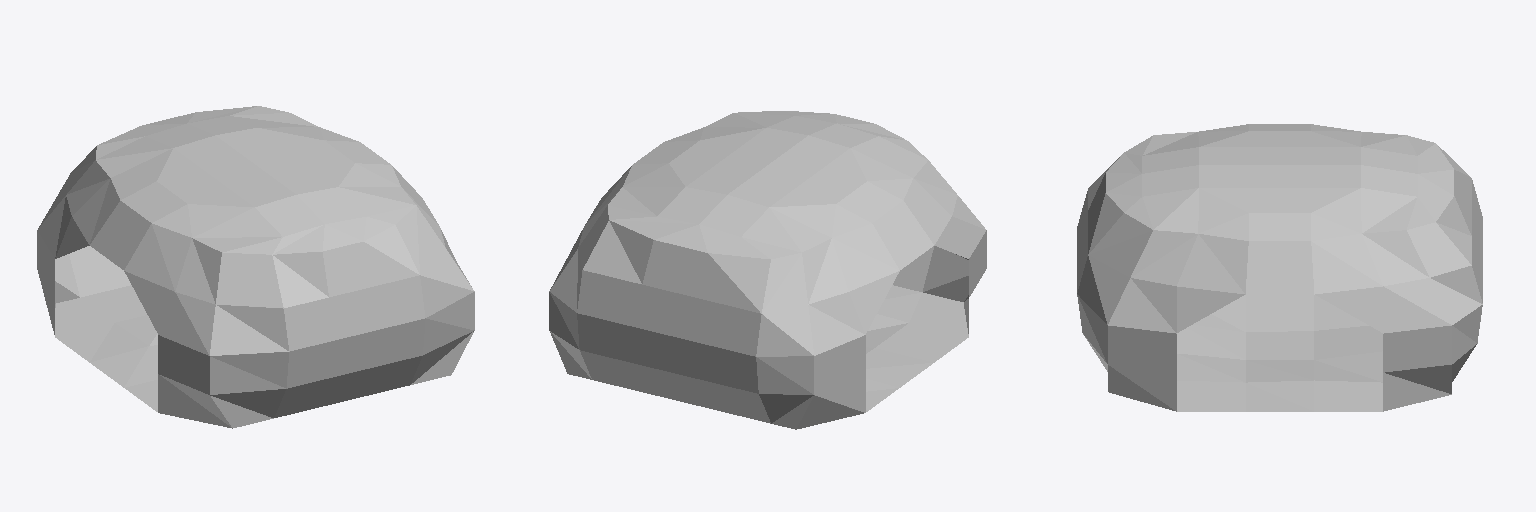
The model's file is Mesh_CavePack_Small_RoomSquare_lod0.obj.
The picture shows the model from 3 angles: view 1: azimuth 30°, elevation 25°; view 2: azimuth 150°, elevation 25°; view 3: azimuth 270°, elevation 25°; orthographic projection.
Parts seen in each view (by area): view 1: Plane; view 2: Plane; view 3: Plane.
Part boxes in pixels (bbox=[...]): Plane: bbox=[37, 106, 474, 428]; Plane: bbox=[549, 111, 986, 429]; Plane: bbox=[1077, 124, 1482, 411].
Size of the model in its own units: 16 by 9.32 by 18.84.